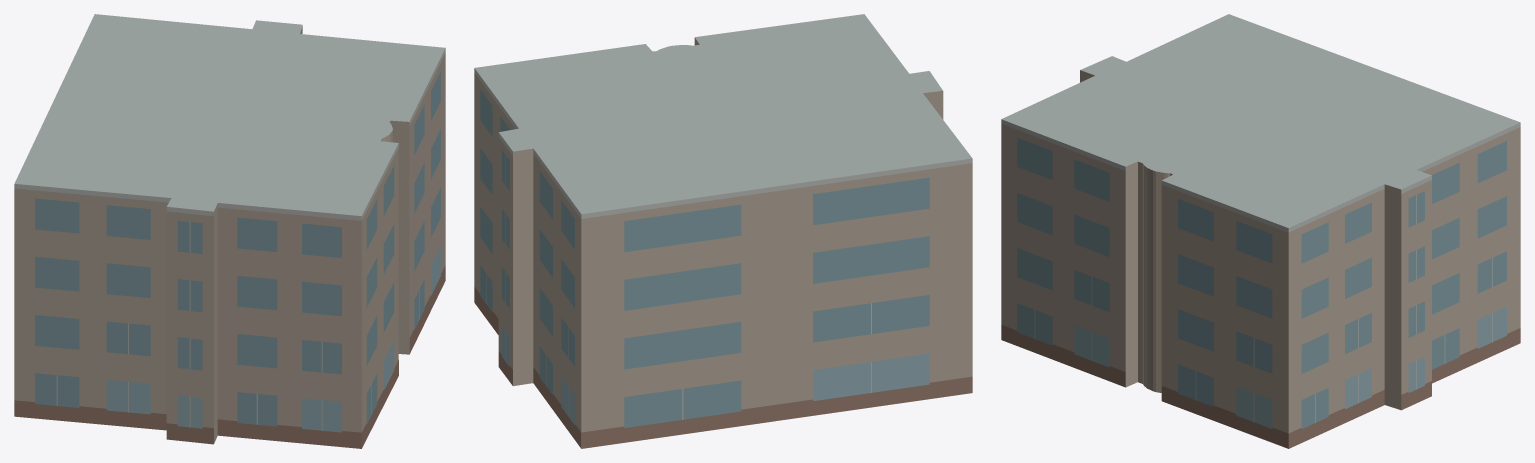
File: survey-upis-32529056.glb
3 views of the same model, side by side, from view 1: azimuth 30°, elevation 25°; view 2: azimuth 150°, elevation 25°; view 3: azimuth 270°, elevation 25° (orthographic). The views are drawn at different scales.
Parts seen in each view (by area): view 1: survey-upis-32529056.tmp; view 2: survey-upis-32529056.tmp; view 3: survey-upis-32529056.tmp.
Part boxes in pixels (x1,y1,x2,y2): survey-upis-32529056.tmp: [14, 14, 445, 448]; survey-upis-32529056.tmp: [474, 14, 972, 448]; survey-upis-32529056.tmp: [1001, 14, 1520, 448].
Bounding box in the file's own units: 25.19 × 12.1 × 25.82.
